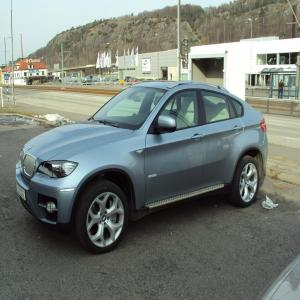Vehicle-registration-plate: (18, 182, 27, 202)
